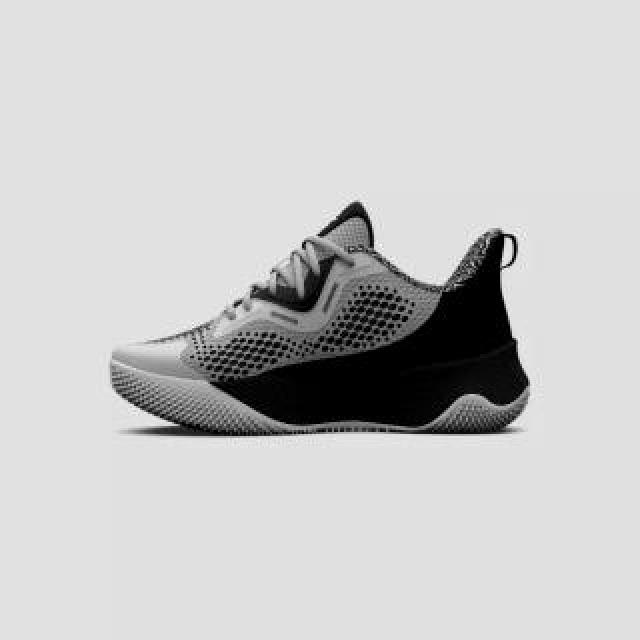shoe: (109, 200, 529, 434)
